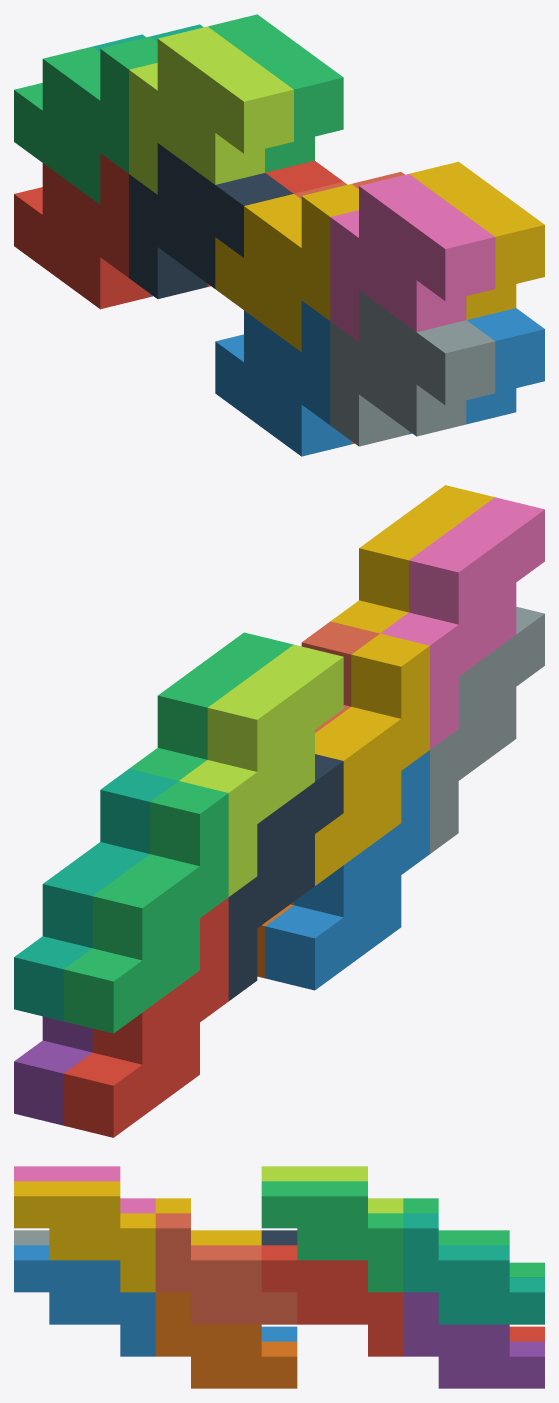
The model's file is tiling.obj.
The picture shows the model from 3 angles, top to bottom: view 1: azimuth 30°, elevation 25°; view 2: azimuth 150°, elevation 25°; view 3: azimuth 270°, elevation 25°; orthographic projection. The views are drawn at different scales.
Visible parts, largest first — view 1: copy_2_domain_4, copy_2_domain_3, copy_2_domain_2, copy_1_domain_3, copy_1_domain_4, copy_2_domain_1, copy_1_domain_2, copy_1_domain_1, copy_2_domain_8, copy_2_domain_7, copy_2_domain_6, copy_2_domain_5; view 2: copy_1_domain_3, copy_2_domain_3, copy_2_domain_4, copy_1_domain_4, copy_1_domain_1, copy_1_domain_2, copy_1_domain_7, copy_2_domain_1, copy_2_domain_2, copy_2_domain_7, copy_2_domain_8, copy_1_domain_5 (+1 smaller); view 3: copy_2_domain_7, copy_1_domain_7, copy_2_domain_8, copy_1_domain_8, copy_2_domain_5, copy_1_domain_6, copy_2_domain_6, copy_1_domain_5, copy_1_domain_3, copy_2_domain_4, copy_2_domain_3, copy_1_domain_4 (+4 smaller).
Part boxes in pixels (x1,y1,x2,y2): copy_2_domain_4: [330, 174, 495, 341]; copy_2_domain_3: [129, 26, 293, 194]; copy_2_domain_2: [330, 290, 495, 446]; copy_1_domain_3: [14, 36, 157, 204]; copy_1_domain_4: [215, 184, 358, 351]; copy_2_domain_1: [129, 143, 293, 298]; copy_1_domain_2: [215, 300, 351, 456]; copy_1_domain_1: [14, 153, 149, 309]; copy_2_domain_8: [409, 161, 544, 319]; copy_2_domain_7: [208, 14, 343, 172]; copy_2_domain_6: [409, 308, 544, 434]; copy_2_domain_5: [207, 160, 343, 286]; copy_1_domain_3: [63, 781, 228, 1033]; copy_2_domain_3: [179, 644, 343, 896]; copy_2_domain_4: [380, 497, 544, 749]; copy_1_domain_4: [315, 633, 429, 885]; copy_1_domain_1: [63, 897, 228, 1137]; copy_1_domain_2: [265, 750, 429, 990]; copy_1_domain_7: [14, 769, 178, 1021]; copy_2_domain_1: [228, 754, 343, 1000]; copy_2_domain_2: [430, 606, 544, 853]; copy_2_domain_7: [129, 632, 293, 780]; copy_2_domain_8: [330, 485, 494, 633]; copy_1_domain_5: [14, 1016, 92, 1125]; copy_2_domain_7: [261, 1181, 403, 1292]; copy_1_domain_7: [403, 1213, 544, 1324]; copy_2_domain_8: [14, 1181, 155, 1292]; copy_1_domain_8: [155, 1213, 297, 1324]; copy_2_domain_5: [261, 1245, 403, 1356]; copy_1_domain_6: [155, 1292, 297, 1388]; copy_2_domain_6: [14, 1245, 155, 1356]; copy_1_domain_5: [403, 1292, 544, 1388]; copy_1_domain_3: [403, 1198, 544, 1277]; copy_2_domain_4: [14, 1166, 155, 1213]; copy_2_domain_3: [261, 1166, 403, 1213]; copy_1_domain_4: [155, 1198, 261, 1245].
Size of the model in its own units: 2 by 6 by 15.
